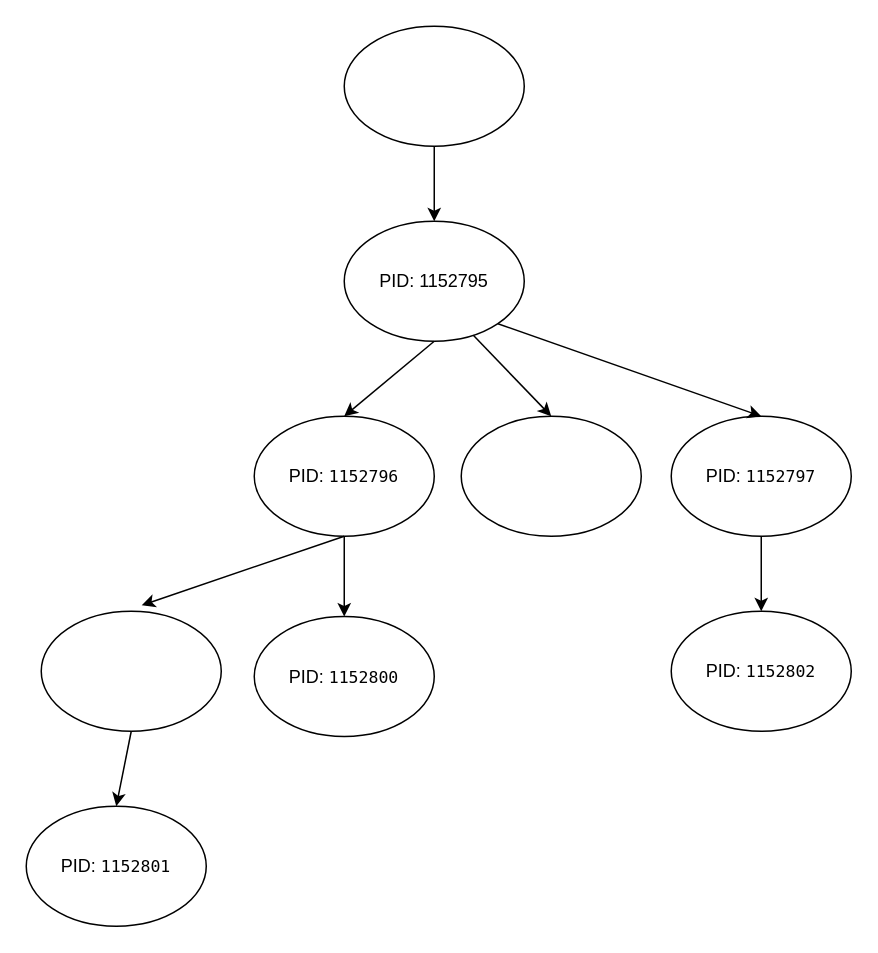
The diagram is 878 pixels wide and 953 high, and some of its shapes have lost their labels. The shapes that lost their labels are listed below. From the top down, each one's box as (x1, y1, x2, y2) in pixels, then its label:
(343, 25, 524, 146): PID: 1130471
(460, 415, 641, 536): PID: 1152799
(40, 610, 221, 731): PID: 1152798
